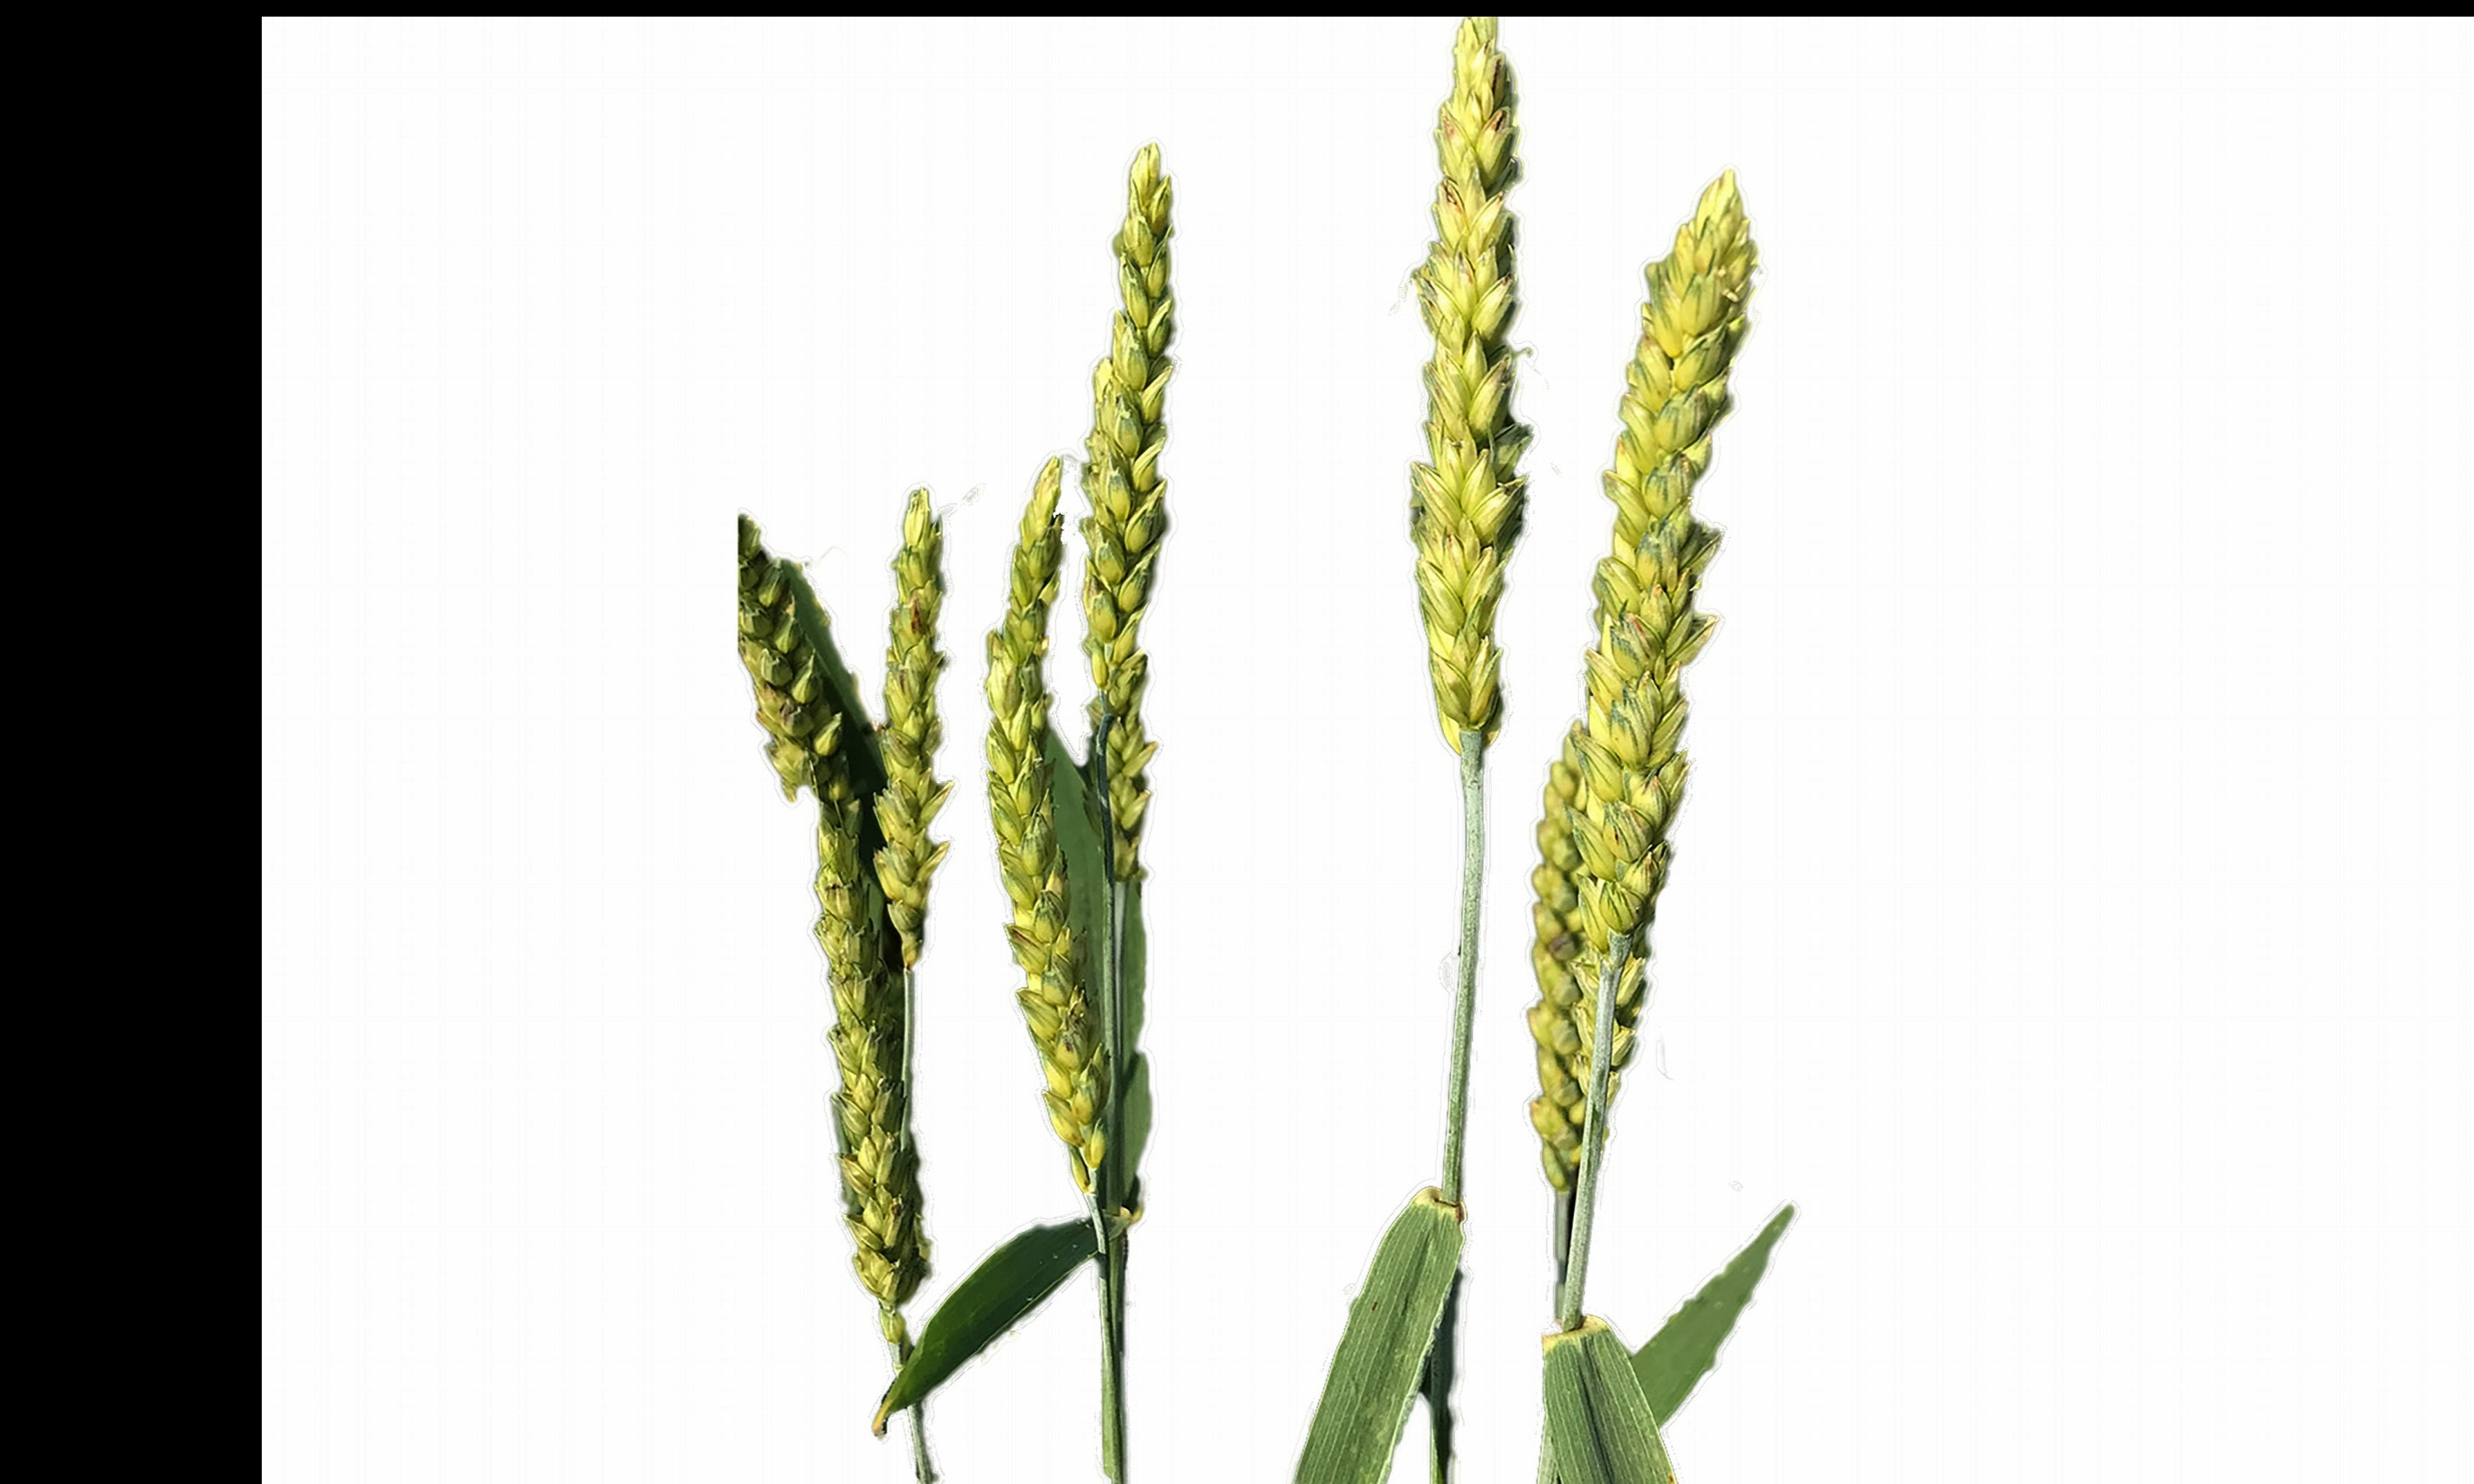wheat: (1519, 154, 1743, 1373), (978, 117, 1196, 1300), (736, 450, 954, 1332), (1346, 21, 1542, 938)
